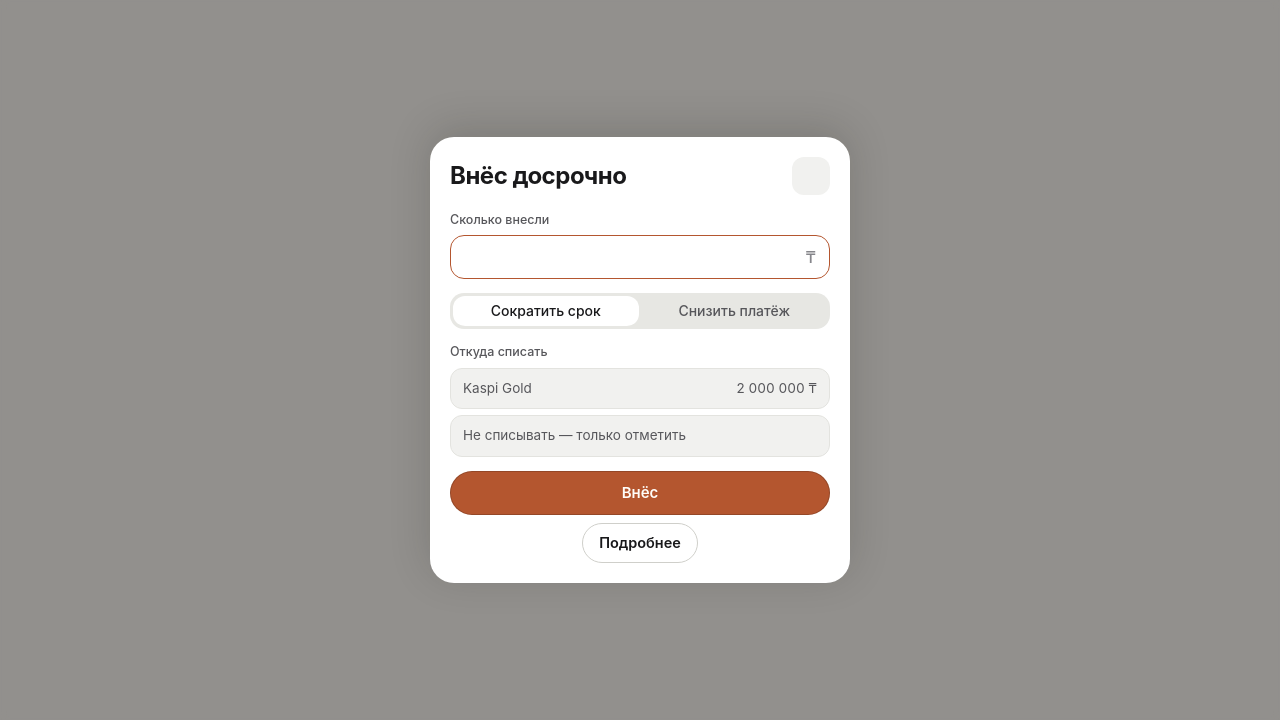
Scenario: F2-04: лист PrepaySheet › платёж не покрывает проценты — строка «экономию не считаем», без Infinity/NaN (Р-11)
The image size is (1280, 720).
Type "100 000" into the field labelled "Сколько внесли ₸" at (640, 257), box top-left (450, 235), bottom-right (830, 279)
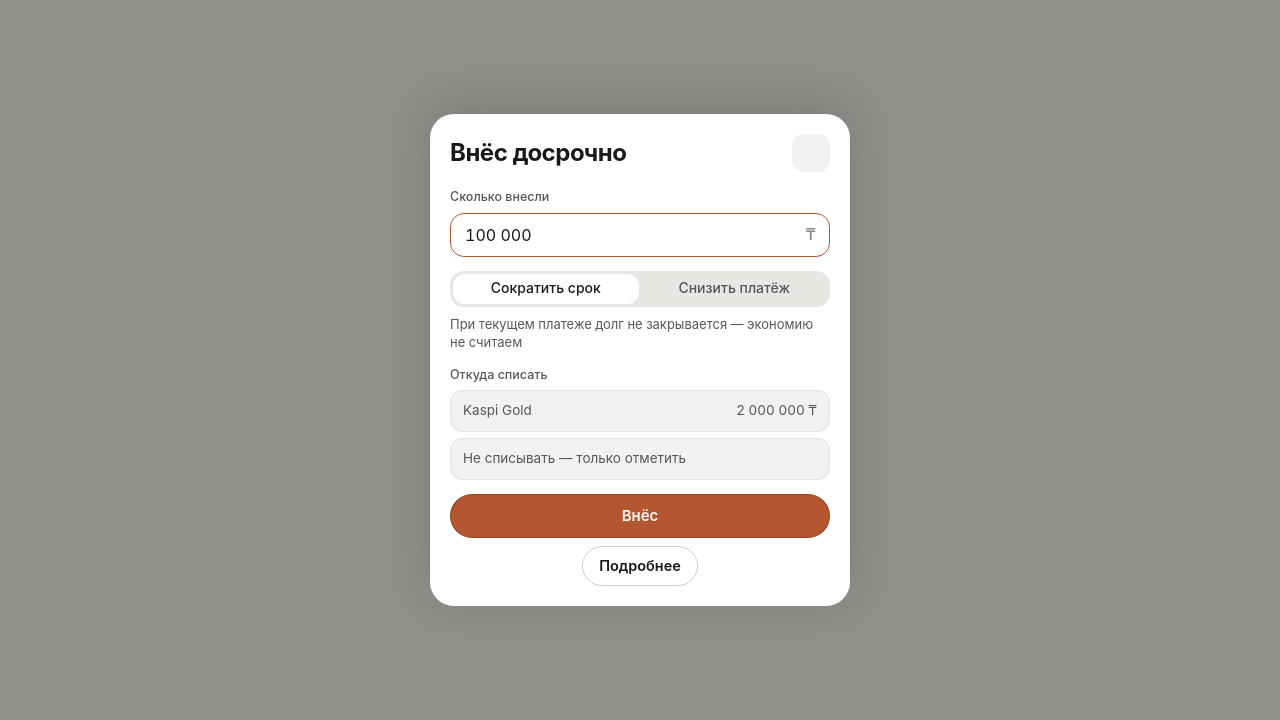
Now the dialog shows "При текущем платеже долг не закрывается — экономию не считаем", box top-left (450, 316), bottom-right (813, 350)
